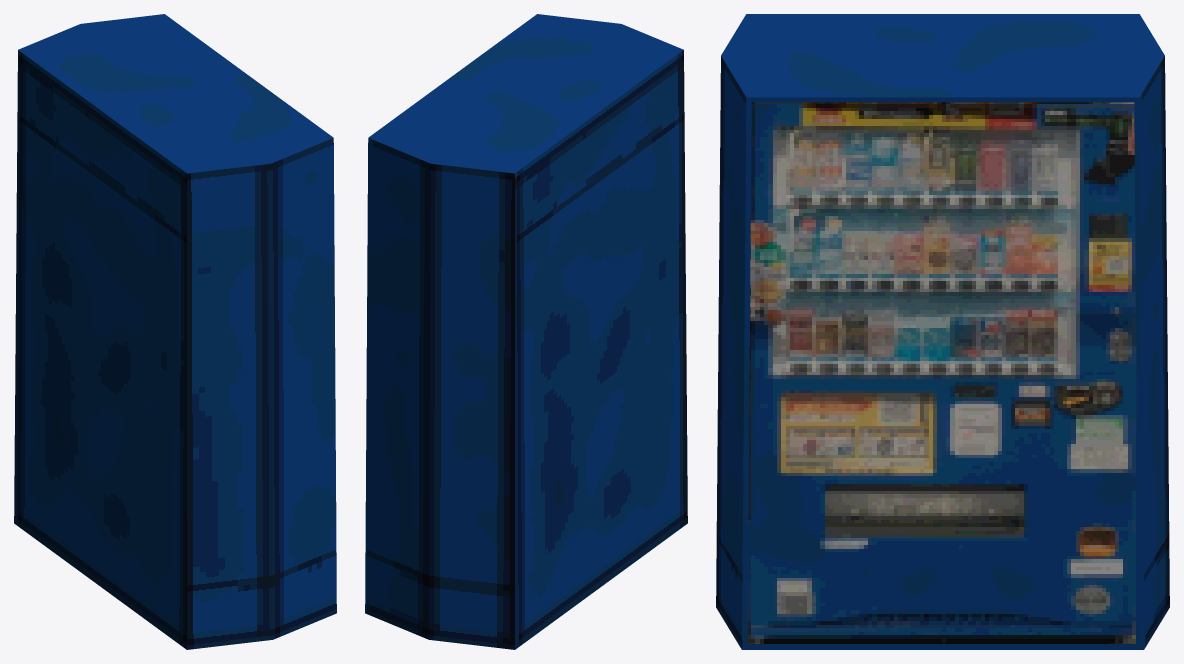
Rendered from vendmachine.glb.
3 renders of one model, left to right at view 1: azimuth 30°, elevation 25°; view 2: azimuth 150°, elevation 25°; view 3: azimuth 270°, elevation 25°, orthographic. The views are drawn at different scales.
Parts seen in each view (by area): view 1: Cube; view 2: Cube; view 3: Cube.
Boxes of the visible parts, <box> form: Cube: <box>14,14,336,649</box>; Cube: <box>365,14,687,649</box>; Cube: <box>716,14,1169,649</box>.
Size of the model in its own units: 2.05 by 6.18 by 4.61.
1 material, 1 textured.
